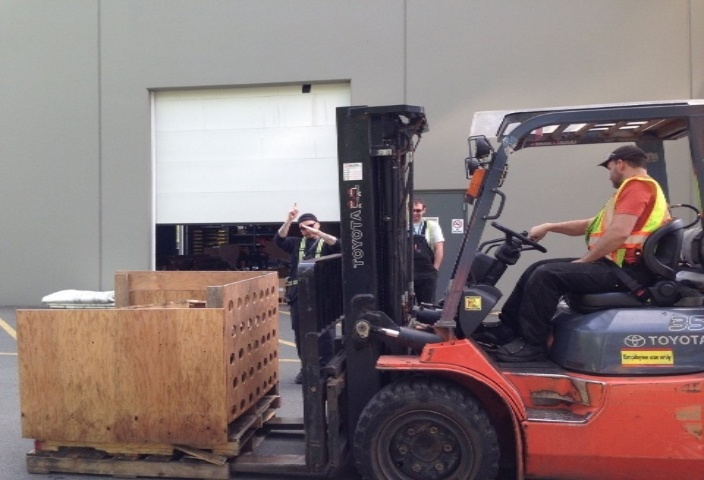industrial: (183, 35, 704, 479)
